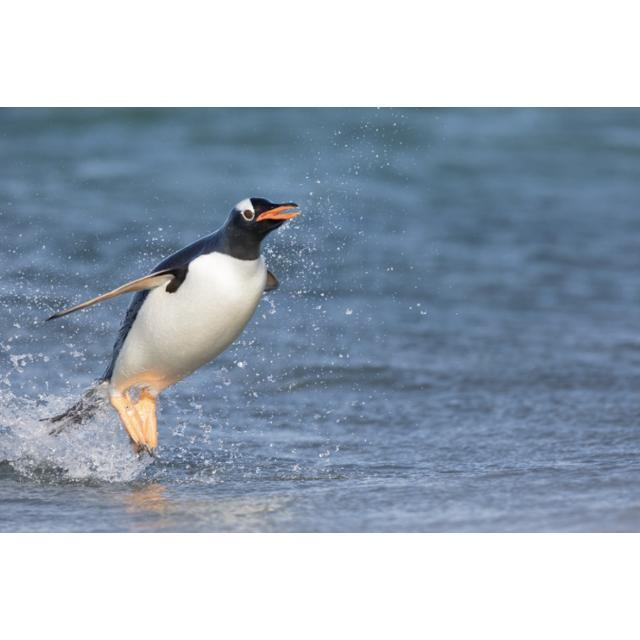penguin: (37, 198, 300, 458)
